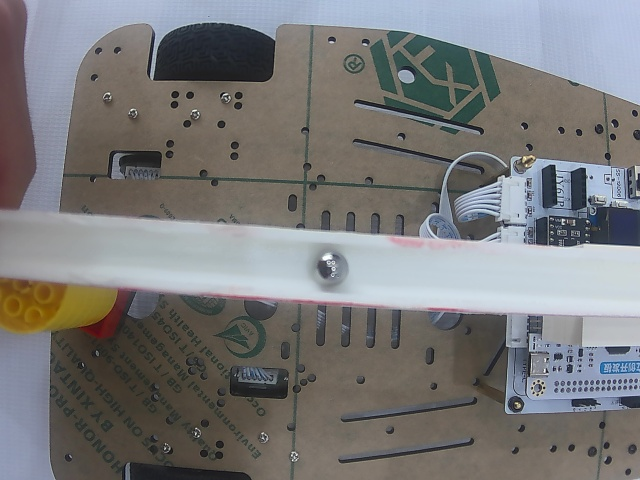steelball: (309, 249, 349, 286)
